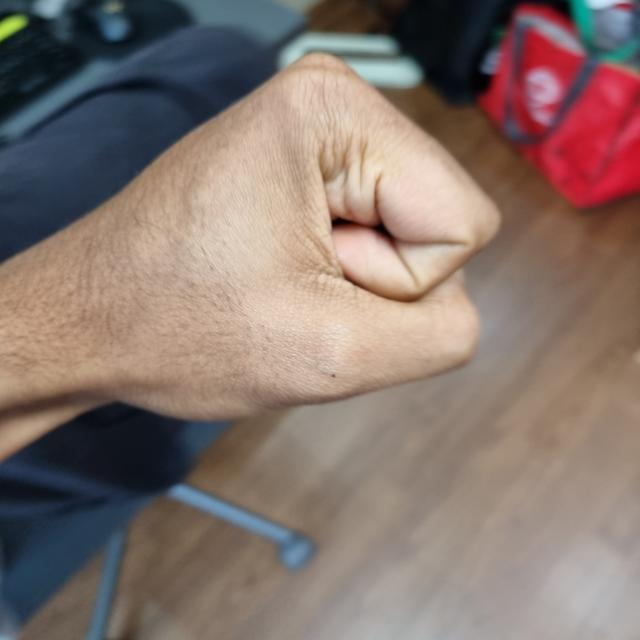Rock: (33, 62, 490, 411)
